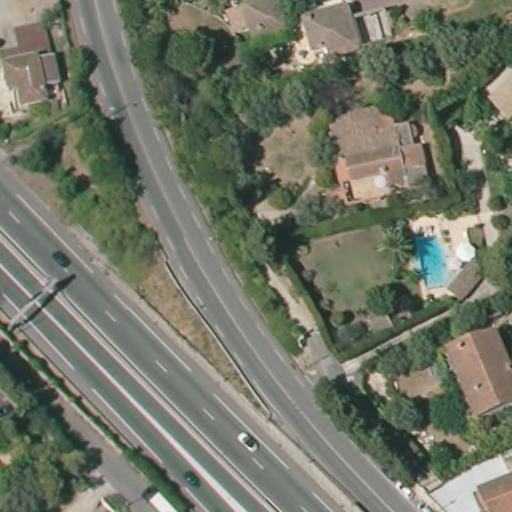pool: (409, 227, 456, 292)
